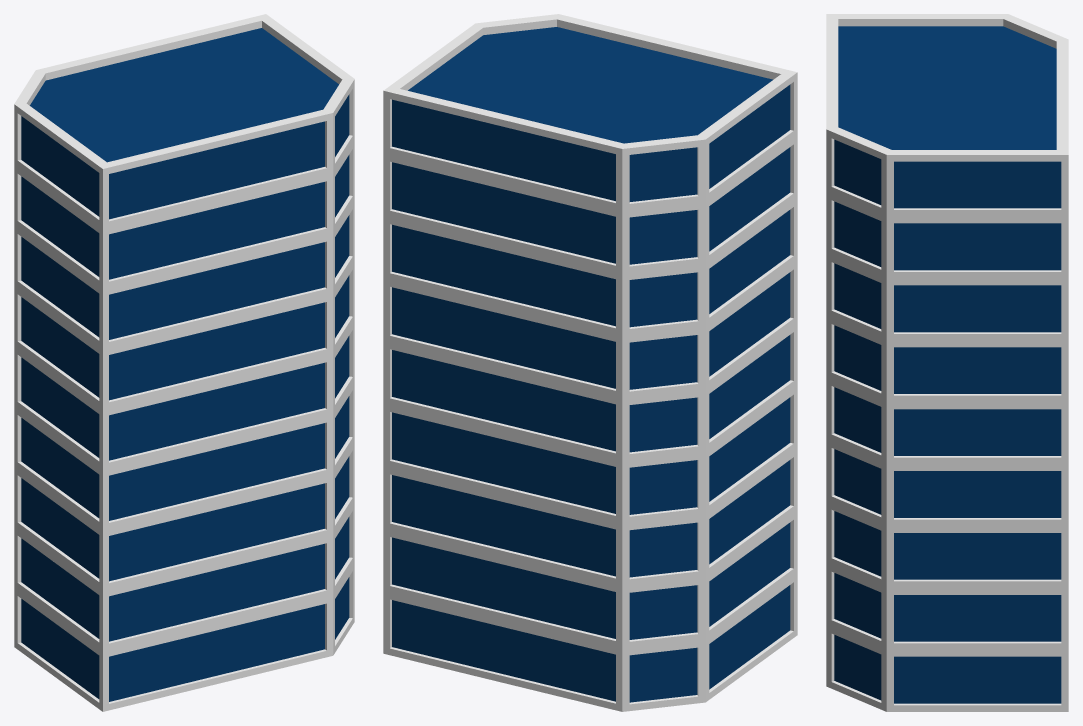
File: Building.fbx
The picture shows the model from 3 angles, left to right: view 1: azimuth 30°, elevation 25°; view 2: azimuth 150°, elevation 25°; view 3: azimuth 270°, elevation 25°; orthographic projection. The views are drawn at different scales.
Parts seen in each view (by area): view 1: Cube; view 2: Cube; view 3: Cube.
Boxes of the visible parts, left/top/right/bottom form: Cube: left=14, top=14, right=354, bottom=711; Cube: left=383, top=14, right=797, bottom=711; Cube: left=826, top=14, right=1068, bottom=711.
Size of the model in its own units: 275 by 507 by 200.
